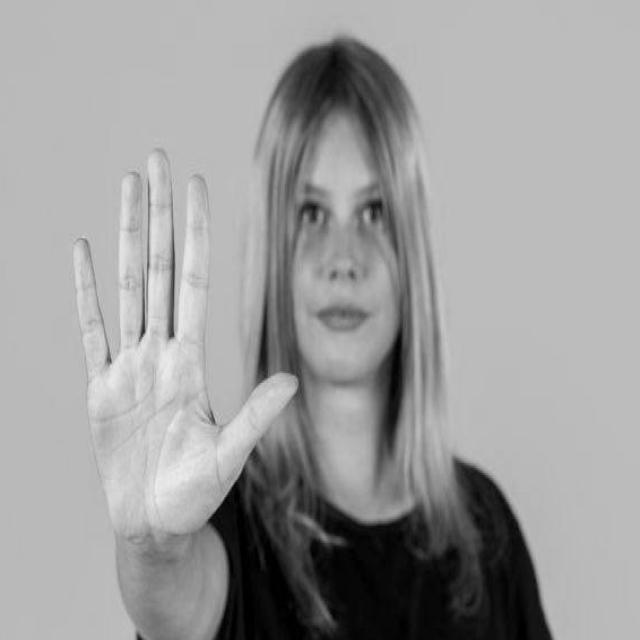stop: (69, 139, 301, 550)
